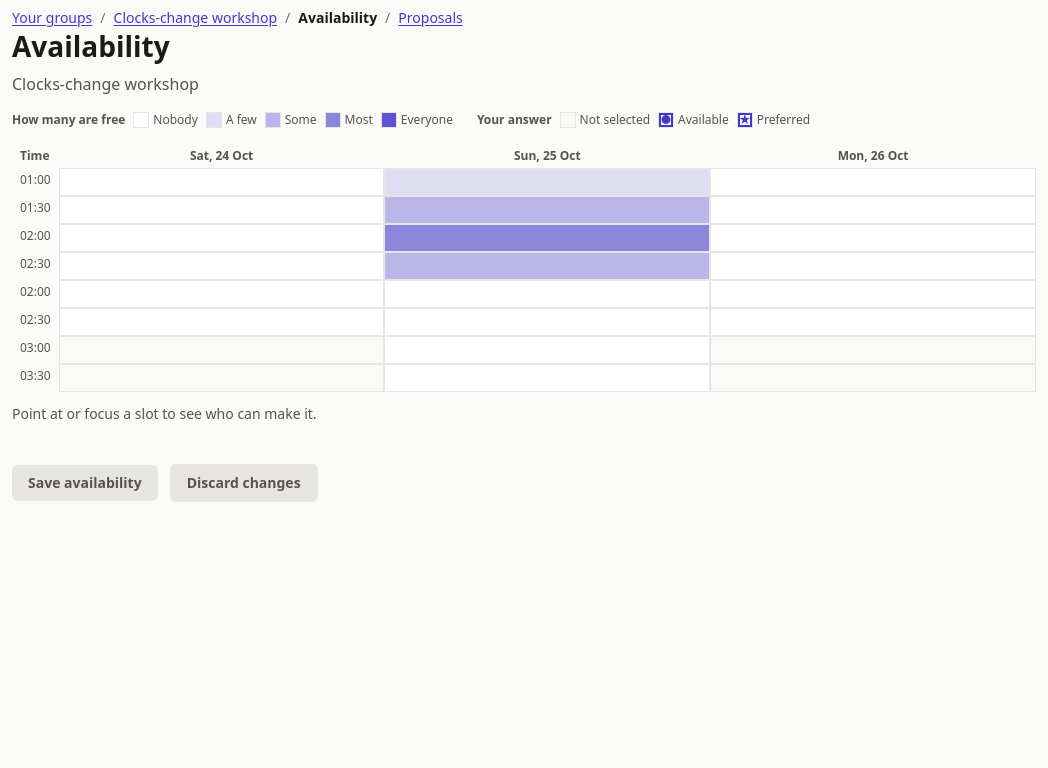
AvailabilityBoard polling › keeps an unsaved selection, and says so, when a poll brings a change
This screenshot has width=1048, height=768.
Press the mouse on the cell named "Sun, 25 Oct at 01:00" at (547, 182), box 384,168 -> 710,196
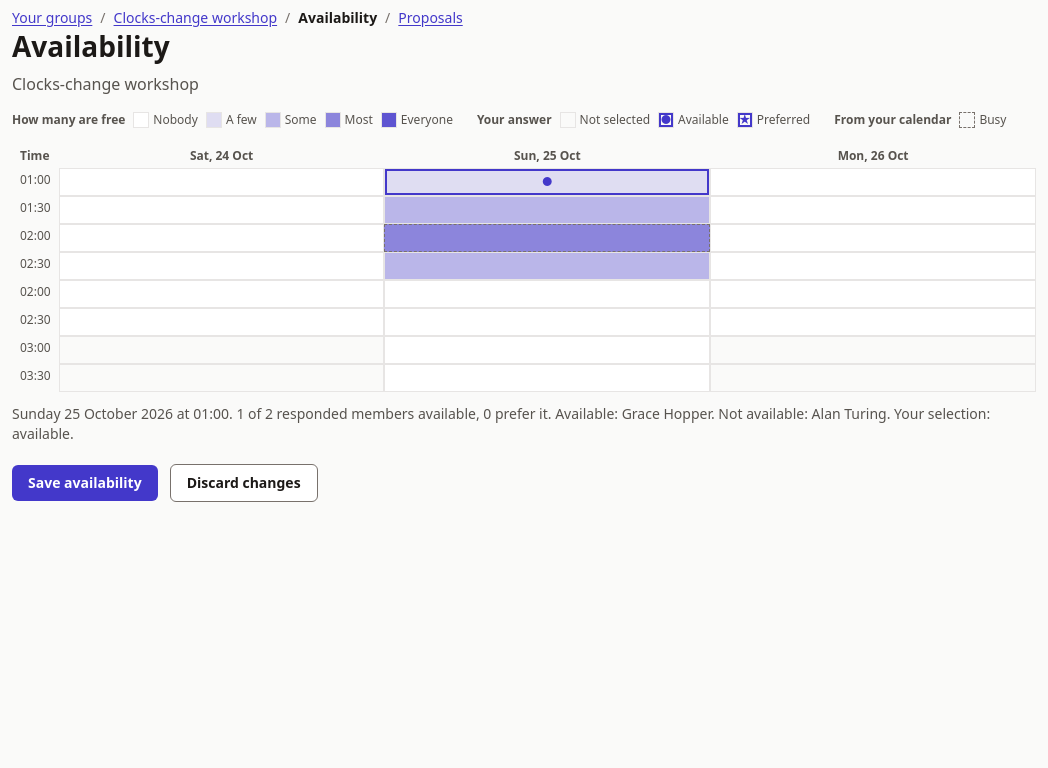
Press the mouse on the cell named "Sun, 25 Oct at 01:30" at (547, 210), box 384,196 -> 710,224
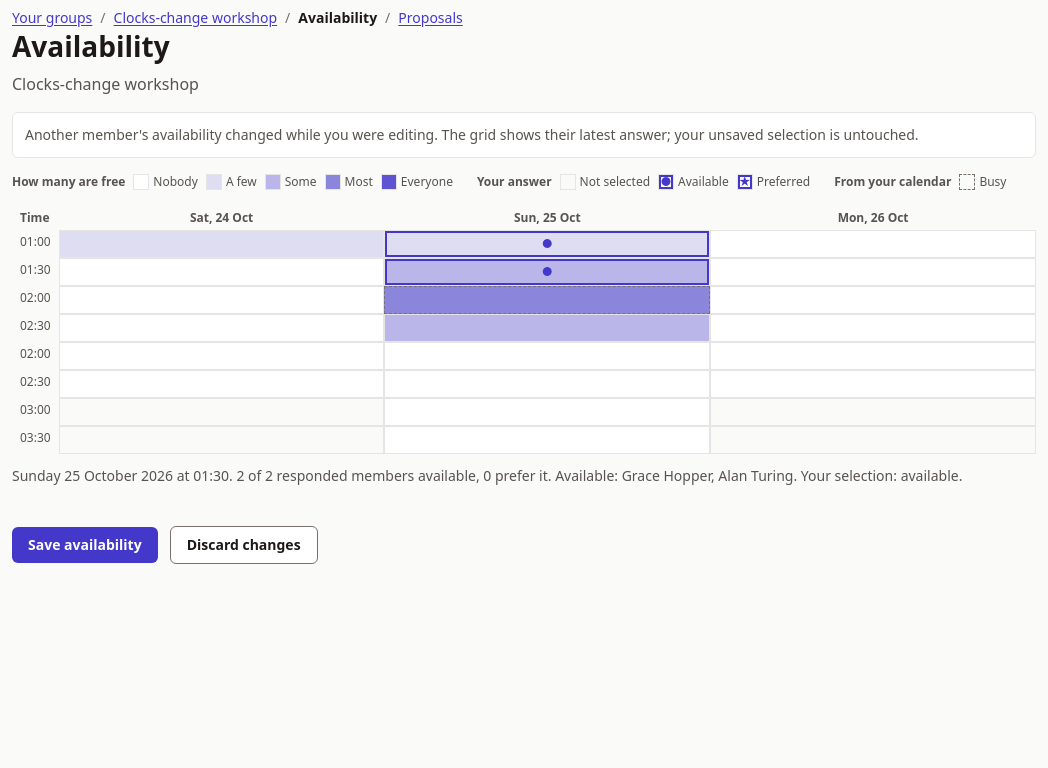
Check: the button "Save availability" is enabled, box 12,527 -> 158,563
Check: the text "changed while you were editing" is shown, box 25,125 -> 919,144
